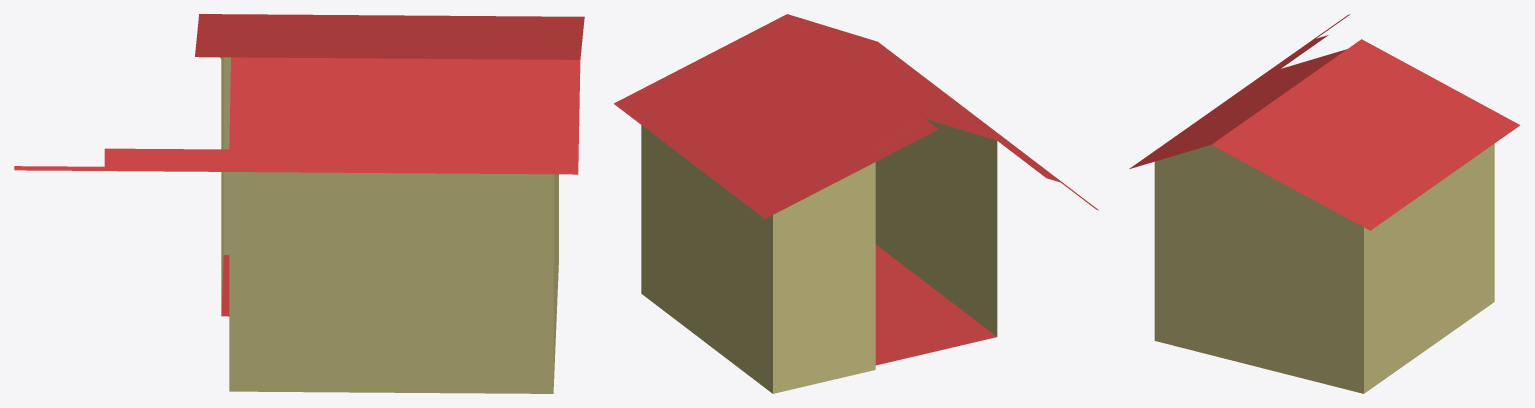
The picture shows the model from 3 angles, left to right: view 1: azimuth 30°, elevation 25°; view 2: azimuth 150°, elevation 25°; view 3: azimuth 270°, elevation 25°; orthographic projection. The views are drawn at different scales.
Bounding box in the file's own units: 13.45 × 10.32 × 6.38.
